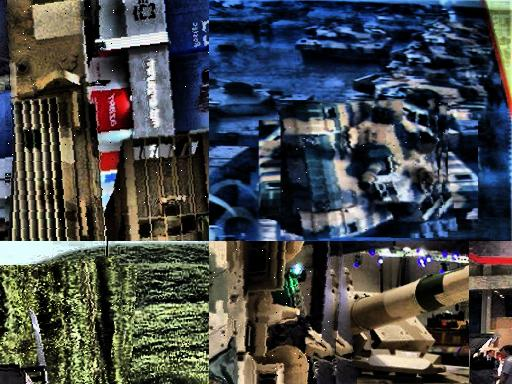tanks: (7, 1, 210, 242), (282, 102, 445, 240), (210, 242, 341, 384), (210, 79, 316, 152), (342, 75, 485, 128), (394, 22, 495, 85), (210, 147, 259, 241), (297, 26, 393, 63), (210, 9, 271, 41)
